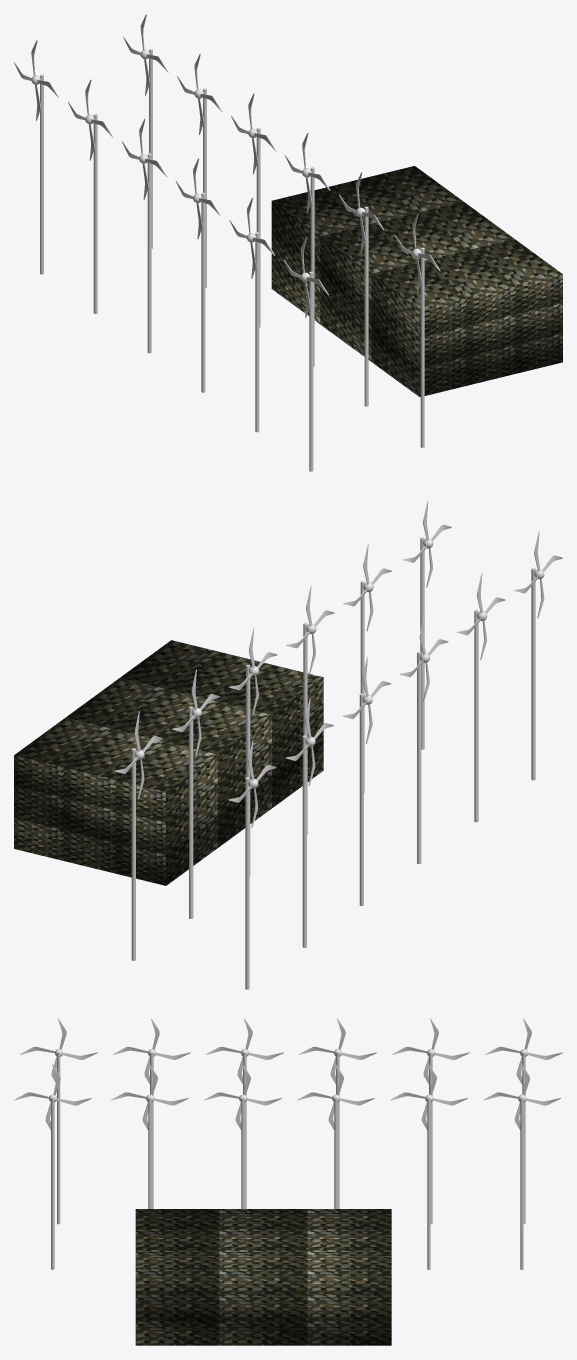
File: WindTurbines.FBX
The picture shows the model from 3 angles, top to bottom: view 1: azimuth 30°, elevation 25°; view 2: azimuth 150°, elevation 25°; view 3: azimuth 270°, elevation 25°; orthographic projection. The views are drawn at different scales.
Visible parts, largest first — view 1: Box001, Cylinder005, Cylinder006, Cylinder003, Cylinder004, Cylinder011, Cylinder002, Cylinder012, Cylinder001, Cylinder010, Cylinder009, Cylinder008 (+1 smaller); view 2: Box001, Cylinder003, Cylinder001, Cylinder002, Cylinder006, Cylinder005, Cylinder007, Cylinder004, Cylinder008, Cylinder012, Cylinder009, Cylinder011 (+1 smaller); view 3: Box001, Cylinder007, Cylinder008, Cylinder012, Cylinder006, Cylinder002, Cylinder001, Cylinder003, Cylinder004, Cylinder005, Cylinder009, Cylinder010 (+1 smaller).
Boxes of the visible parts, x1=… form: Box001: x1=271, y1=166, x2=562, y2=396; Cylinder005: x1=255, y1=232, x2=259, y2=432; Cylinder006: x1=309, y1=271, x2=313, y2=471; Cylinder003: x1=147, y1=153, x2=151, y2=353; Cylinder004: x1=201, y1=192, x2=205, y2=392; Cylinder011: x1=364, y1=206, x2=368, y2=406; Cylinder002: x1=93, y1=114, x2=97, y2=313; Cylinder012: x1=420, y1=247, x2=424, y2=447; Cylinder001: x1=40, y1=74, x2=43, y2=274; Cylinder010: x1=310, y1=167, x2=314, y2=366; Cylinder009: x1=256, y1=127, x2=260, y2=327; Cylinder008: x1=203, y1=88, x2=206, y2=288; Box001: x1=14, y1=640, x2=323, y2=885; Cylinder003: x1=359, y1=693, x2=363, y2=905; Cylinder001: x1=245, y1=777, x2=249, y2=989; Cylinder002: x1=302, y1=735, x2=306, y2=947; Cylinder006: x1=531, y1=568, x2=535, y2=780; Cylinder005: x1=474, y1=609, x2=478, y2=822; Cylinder007: x1=131, y1=748, x2=135, y2=960; Cylinder004: x1=417, y1=651, x2=421, y2=864; Cylinder008: x1=189, y1=706, x2=193, y2=918; Cylinder012: x1=420, y1=537, x2=424, y2=749; Cylinder009: x1=246, y1=664, x2=250, y2=876; Cylinder011: x1=360, y1=581, x2=364, y2=792; Box001: x1=135, y1=1209, x2=391, y2=1345; Cylinder007: x1=520, y1=1097, x2=523, y2=1269; Cylinder008: x1=427, y1=1097, x2=430, y2=1269; Cylinder012: x1=51, y1=1097, x2=54, y2=1269; Cylinder006: x1=57, y1=1051, x2=60, y2=1224; Cylinder002: x1=429, y1=1051, x2=432, y2=1224; Cylinder001: x1=522, y1=1051, x2=525, y2=1224; Cylinder003: x1=336, y1=1051, x2=339, y2=1208; Cylinder004: x1=243, y1=1051, x2=246, y2=1208; Cylinder005: x1=150, y1=1051, x2=153, y2=1208; Cylinder009: x1=334, y1=1097, x2=337, y2=1208; Cylinder010: x1=241, y1=1097, x2=244, y2=1208.
Bounding box in the file's own units: 4118 × 3021 × 7406.
1 material, 1 textured.
